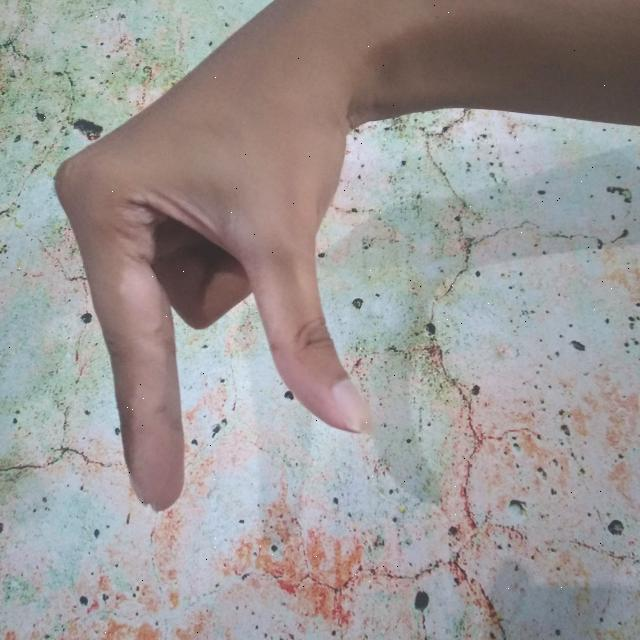Q: (42, 0, 480, 535)
